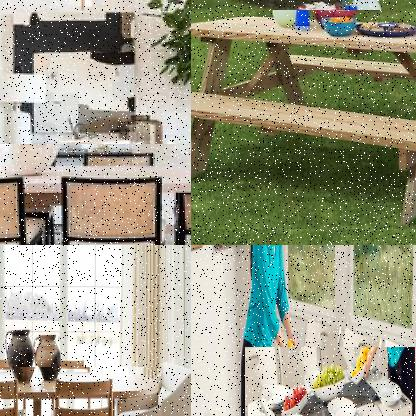table: (191, 10, 415, 231), (0, 144, 190, 244), (244, 347, 416, 415), (0, 367, 162, 415)
